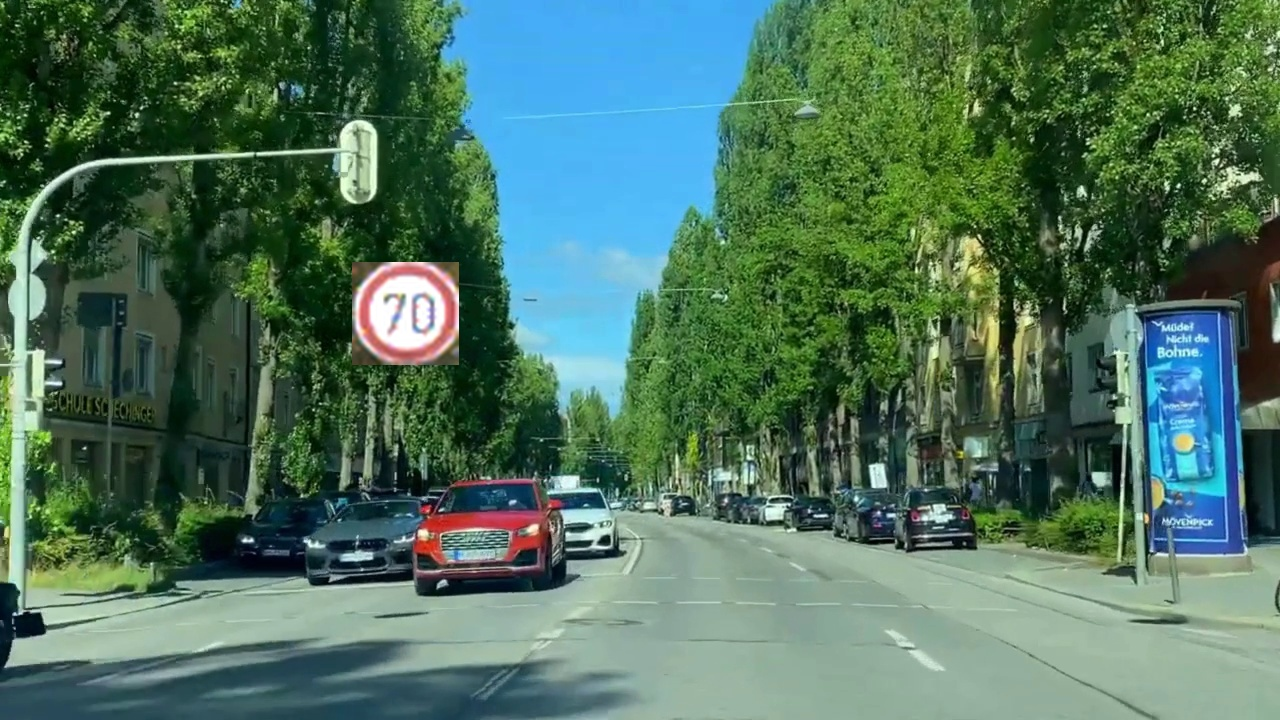Speed 70: (352, 262, 459, 365)
